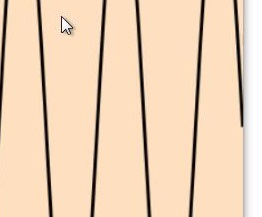cursor: (60, 14, 74, 37)
